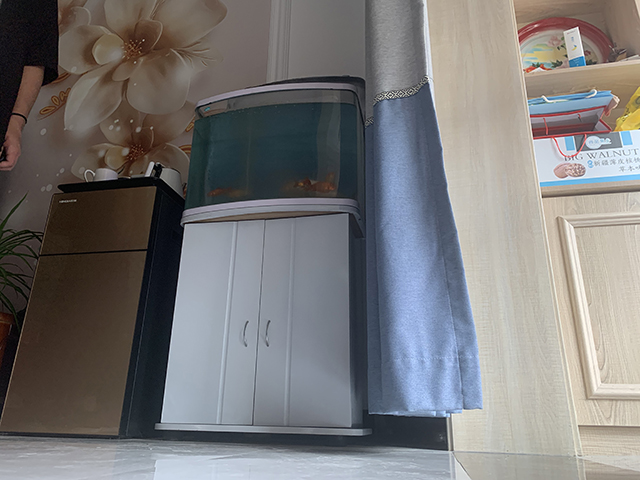cabinet: (152, 204, 372, 448), (449, 183, 640, 458), (1, 176, 186, 440)
curtain: (364, 1, 484, 420)
